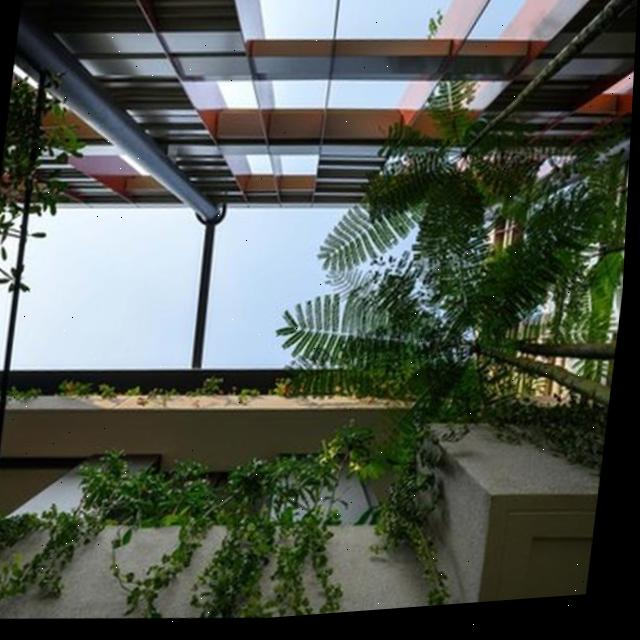building: (0, 311, 616, 640), (0, 0, 640, 251)
